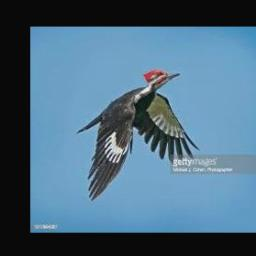Woodpecker: (76, 69, 200, 201)
